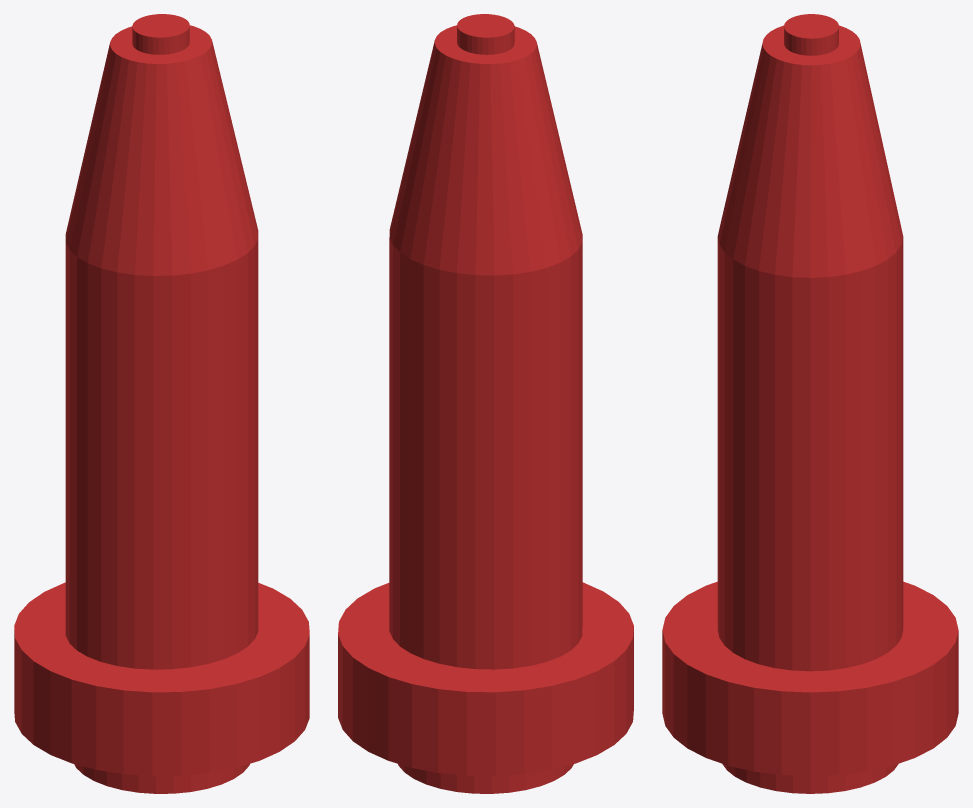
File: red_buoy.dae
3 views of the same model, side by side, from view 1: azimuth 30°, elevation 25°; view 2: azimuth 150°, elevation 25°; view 3: azimuth 270°, elevation 25° (orthographic).
Visible parts, largest first — view 1: Cylinder; view 2: Cylinder; view 3: Cylinder.
Boxes of the visible parts, x1,y1,x2,y2 form: Cylinder: (14,14,309,793); Cylinder: (338,14,633,793); Cylinder: (662,14,958,793).
Bounding box in the file's own units: 0.46 × 0.46 × 1.25.
